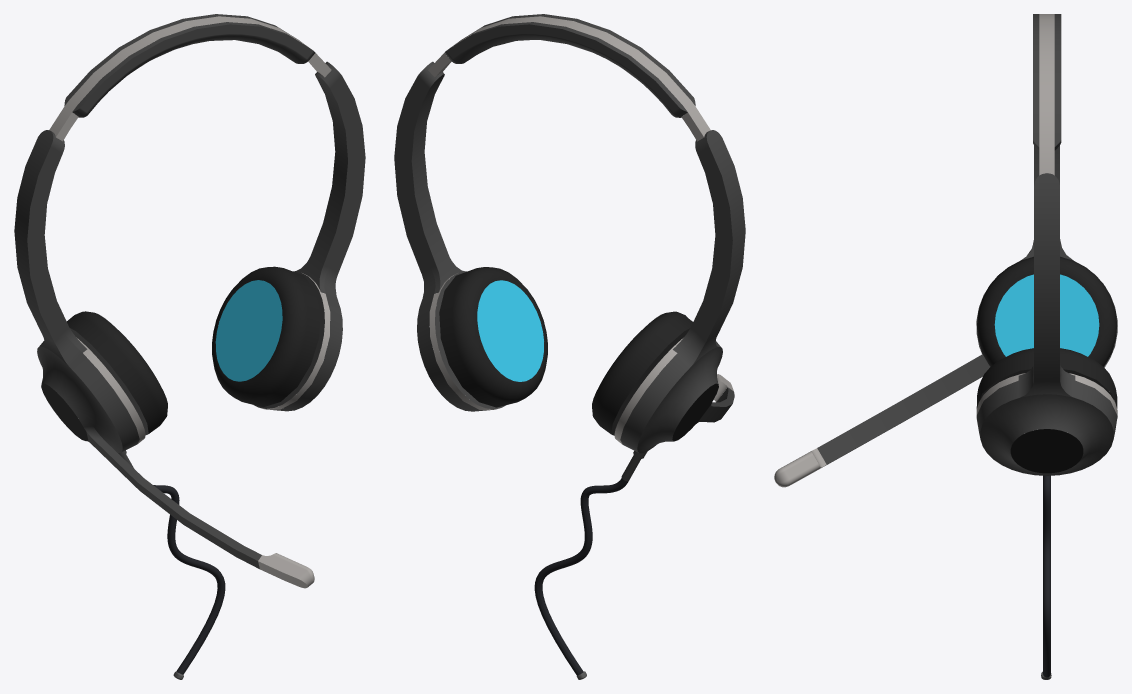
Rendered from headset530.glb.
3 renders of one model, left to right at view 1: azimuth 30°, elevation 25°; view 2: azimuth 150°, elevation 25°; view 3: azimuth 270°, elevation 25°, orthographic.
Visible parts, largest first — view 1: 005507, Cube; view 2: 005507, Cube; view 3: 005507, Cube.
Part boxes in pixels (<box>): 005507: <box>14,14,365,588</box>; Cube: <box>153,485,225,679</box>; 005507: <box>394,14,745,481</box>; Cube: <box>534,478,628,679</box>; 005507: <box>774,14,1117,487</box>; Cube: <box>1041,475,1051,679</box>.
Size of the model in its own units: 0.1514 by 0.2789 by 0.133.
